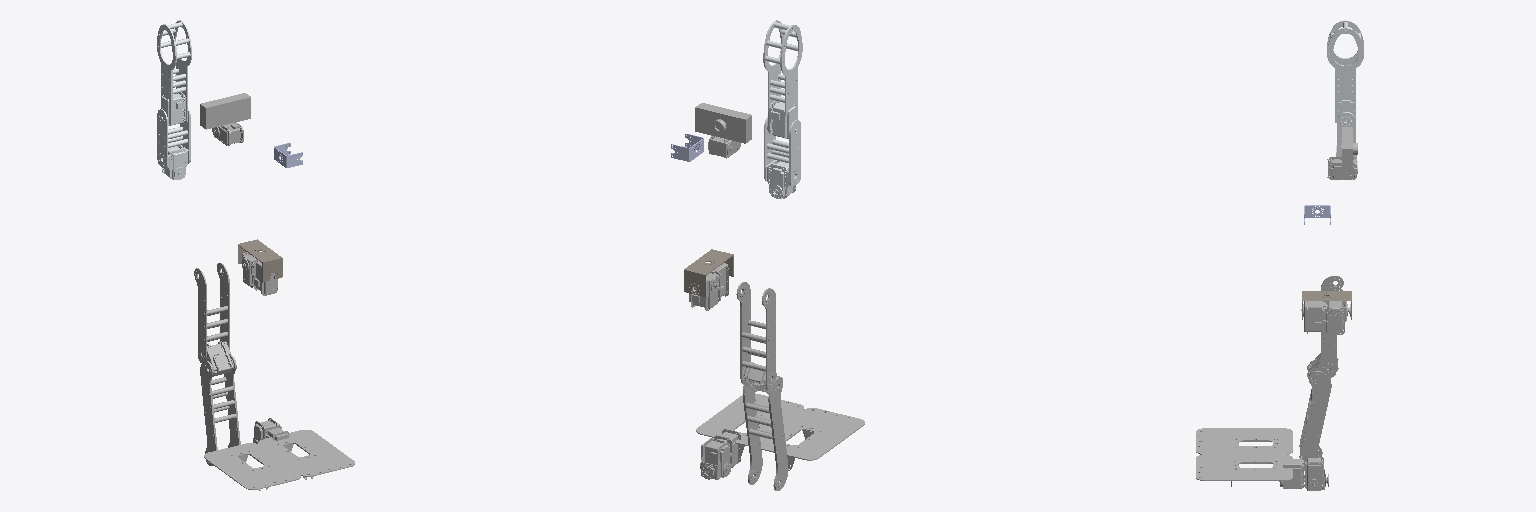
--- Facts derived from the render (not from the file) ---
Views: 3 orthographic renders of the robot side by side, from view 1: azimuth 30°, elevation 25°; view 2: azimuth 150°, elevation 25°; view 3: azimuth 270°, elevation 25°.
Robot: SAKURA — 21 links, 20 joints (19 continuous, 1 fixed); root link base_link; default pose: every joint at zero.
Visible links, largest first — view 1: LFOOT, LLEG2, RFOOT, LARM2, LLEG3, HEAD, LARM1, RLEG0, RLEG1, RLEG4; view 2: LARM2, LLEG2, LFOOT, LLEG3, LARM1, HEAD, RFOOT, RLEG4, RLEG0, RLEG1, RARM0; view 3: RFOOT, LFOOT, LARM2, LLEG3, RLEG1, RLEG4, LLEG2, HEAD, RLEG0.
Link boxes in pixels (<box>): LFOOT: <box>204,443,300,490</box>; LLEG2: <box>194,263,233,376</box>; RFOOT: <box>258,430,354,479</box>; LARM2: <box>157,20,191,125</box>; LLEG3: <box>200,355,240,465</box>; HEAD: <box>200,93,250,145</box>; LARM1: <box>157,107,190,179</box>; RLEG0: <box>238,239,282,281</box>; RLEG1: <box>241,251,277,295</box>; RLEG4: <box>253,418,288,443</box>; LARM2: <box>763,20,802,138</box>; LLEG2: <box>736,282,777,394</box>; LFOOT: <box>761,408,864,470</box>; LLEG3: <box>743,376,788,490</box>; LARM1: <box>764,116,800,198</box>; HEAD: <box>695,103,751,158</box>; RFOOT: <box>696,393,803,455</box>; RLEG4: <box>700,429,740,479</box>; RLEG0: <box>684,249,733,296</box>; RLEG1: <box>689,263,728,310</box>; RARM0: <box>671,134,703,161</box>; RFOOT: <box>1196,454,1292,486</box>; LFOOT: <box>1196,428,1292,454</box>; LARM2: <box>1327,20,1363,122</box>; LLEG3: <box>1299,360,1331,467</box>; RLEG1: <box>1301,301,1350,334</box>; RLEG4: <box>1279,456,1328,490</box>; LLEG2: <box>1307,276,1343,382</box>; HEAD: <box>1327,127,1357,179</box>; RLEG0: <box>1302,291,1351,319</box>.
Size in the robot's own frame: 0.2928 by 0.3597 by 1.01 metres.
11 mesh visuals loaded from 20 distinct referenced files (11 binary STL); not drawn: 9 (reference not matched to a file when rendering).

robot.urdf — SAKURA:
<?xml version="1.0"?>
<robot
  name="SAKURA">
    <link name="base_link">
      <origin
        xyz="0 0 0"
        rpy="0 0 0" />
  </link>
  <link
    name="TRUNK">
    <inertial>
      <origin
        xyz="-0.000142944293532541 -0.0159940135836359 0.119253638413231"
        rpy="0 0 0" />
      <mass
        value="1.4778155091901" />
      <inertia
        ixx="0.0125398154437975"
        ixy="-2.68478156217668E-06"
        ixz="-7.17353402812125E-06"
        iyy="0.016695640033345"
        iyz="0.000776177026664091"
        izz="0.00567882258573842" />
    </inertial>
    <visual>
      <origin
        xyz="0 0 0"
        rpy="0 0 0" />
      <geometry>
        <mesh
          filename="package://sakura_pkg/meshes/TRUNK.STL" />
      </geometry>
      <material
        name="">
        <color
          rgba="0.752941176470588 0.752941176470588 0.752941176470588 1" />
      </material>
    </visual>
    <collision>
      <origin
        xyz="0 0 0"
        rpy="0 0 0" />
      <geometry>
        <mesh
          filename="package://sakura_pkg/meshes/TRUNK.STL" />
      </geometry>
    </collision>
  </link>
    <joint name="GLOBAL" type="fixed">
    <parent link="base_link"/>
    <child link="TRUNK"/>
    <origin xyz="0 0 0" rpy="0 0 0"/>
  </joint>
  <link
    name="HEAD">
    <inertial>
      <origin
        xyz="-0.0038811 0.012249 0.048965"
        rpy="0 0 0" />
      <mass
        value="0.21462" />
      <inertia
        ixx="0.00010122"
        ixy="8.917E-07"
        ixz="4.6738E-06"
        iyy="9.789E-05"
        iyz="-1.8633E-05"
        izz="3.7787E-06" />
    </inertial>
    <visual>
      <origin
        xyz="0 0 0"
        rpy="0 0 0" />
      <geometry>
        <mesh
          filename="package://sakura_pkg/meshes/HEAD.STL" />
      </geometry>
      <material
        name="">
        <color
          rgba="0.75294 0.75294 0.75294 1" />
      </material>
    </visual>
    <collision>
      <origin
        xyz="0 0 0"
        rpy="0 0 0" />
      <geometry>
        <mesh
          filename="package://sakura_pkg/meshes/HEAD.STL" />
      </geometry>
    </collision>
  </link>
  <joint
    name="J_HEAD"
    type="continuous">
    <origin
      xyz="0.0016 0.01125 0.2484"
      rpy="-1.2005E-15 -9.4278E-17 -2.3904E-16" />
    <parent
      link="TRUNK" />
    <child
      link="HEAD" />
    <axis
      xyz="0 0 1" />
    <limit
      effort="0"
      velocity="0" />
  </joint>
  <link
    name="LARM0">
    <inertial>
      <origin
        xyz="4.16333634234434E-17 2.77555756156289E-17 0.0103025666414173"
        rpy="0 0 0" />
      <mass
        value="0.0066175226097181" />
      <inertia
        ixx="0"
        ixy="0"
        ixz="0"
        iyy="0"
        iyz="0"
        izz="0" />
    </inertial>
    <visual>
      <origin
        xyz="0 0 0"
        rpy="0 0 0" />
      <geometry>
        <mesh
          filename="package://sakura_pkg/meshes/LARM0.STL" />
      </geometry>
      <material
        name="">
        <color
          rgba="0.792156862745098 0.819607843137255 0.933333333333333 1" />
      </material>
    </visual>
    <collision>
      <origin
        xyz="0 0 0"
        rpy="0 0 0" />
      <geometry>
        <mesh
          filename="package://sakura_pkg/meshes/LARM0.STL" />
      </geometry>
    </collision>
  </link>
  <joint
    name="J_LARM0"
    type="continuous">
    <origin
      xyz="-0.0935 -0.038 0.209"
      rpy="1.5708 -5.6851E-16 -1.5708" />
    <parent
      link="TRUNK" />
    <child
      link="LARM0" />
    <axis
      xyz="0 0 1" />
    <limit
      effort="0"
      velocity="0" />
  </joint>
  <link
    name="LARM1">
    <inertial>
      <origin
        xyz="-0.000203905909046856 -0.0358166170046635 -0.030724518771744"
        rpy="0 0 0" />
      <mass
        value="0.386889741732442" />
      <inertia
        ixx="0.000319462933467775"
        ixy="-7.00859671208955E-06"
        ixz="-6.33921748509821E-09"
        iyy="8.0452262350149E-05"
        iyz="6.46973244600118E-07"
        izz="0.000386423060557297" />
    </inertial>
    <visual>
      <origin
        xyz="0 0 0"
        rpy="0 0 0" />
      <geometry>
        <mesh
          filename="package://sakura_pkg/meshes/LARM1.STL" />
      </geometry>
      <material
        name="">
        <color
          rgba="0.898039215686275 0.92156862745098 0.929411764705882 1" />
      </material>
    </visual>
    <collision>
      <origin
        xyz="0 0 0"
        rpy="0 0 0" />
      <geometry>
        <mesh
          filename="package://sakura_pkg/meshes/LARM1.STL" />
      </geometry>
    </collision>
  </link>
  <joint
    name="J_LARM1"
    type="continuous">
    <origin
      xyz="-0.0308 0 0.036"
      rpy="3.1416 -1.5708 0" />
    <parent
      link="LARM0" />
    <child
      link="LARM1" />
    <axis
      xyz="0 0 1" />
    <limit
      effort="0"
      velocity="0" />
  </joint>
  <link
    name="LARM2">
    <inertial>
      <origin
        xyz="-0.000946892853796732 -0.0604743903550126 -0.030549305382329"
        rpy="0 0 0" />
      <mass
        value="0.417770884687889" />
      <inertia
        ixx="0.00130365609096481"
        ixy="-2.20058971275383E-05"
        ixz="-1.13235654810576E-07"
        iyy="7.40162277479168E-05"
        iyz="-4.76741794550902E-06"
        izz="0.00130522583526536" />
    </inertial>
    <visual>
      <origin
        xyz="0 0 0"
        rpy="0 0 0" />
      <geometry>
        <mesh
          filename="package://sakura_pkg/meshes/LARM2.STL" />
      </geometry>
      <material
        name="">
        <color
          rgba="0.898039215686275 0.92156862745098 0.929411764705882 1" />
      </material>
    </visual>
    <collision>
      <origin
        xyz="0 0 0"
        rpy="0 0 0" />
      <geometry>
        <mesh
          filename="package://sakura_pkg/meshes/LARM2.STL" />
      </geometry>
    </collision>
  </link>
  <joint
    name="J_LARM2"
    type="continuous">
    <origin
      xyz="0.0307 -0.1235 -0.0308"
      rpy="0 1.5708 0" />
    <parent
      link="LARM1" />
    <child
      link="LARM2" />
    <axis
      xyz="0 0 -1" />
    <limit
      effort="0"
      velocity="0" />
  </joint>
  <link
    name="RARM0">
    <inertial>
      <origin
        xyz="-4.16333634234434E-17 0 0.0103025666414173"
        rpy="0 0 0" />
      <mass
        value="0.00661752260971814" />
      <inertia
        ixx="0"
        ixy="0"
        ixz="0"
        iyy="0"
        iyz="0"
        izz="0" />
    </inertial>
    <visual>
      <origin
        xyz="0 0 0"
        rpy="0 0 0" />
      <geometry>
        <mesh
          filename="package://sakura_pkg/meshes/RARM0.STL" />
      </geometry>
      <material
        name="">
        <color
          rgba="0.792156862745098 0.819607843137255 0.933333333333333 1" />
      </material>
    </visual>
    <collision>
      <origin
        xyz="0 0 0"
        rpy="0 0 0" />
      <geometry>
        <mesh
          filename="package://sakura_pkg/meshes/RARM0.STL" />
      </geometry>
    </collision>
  </link>
  <joint
    name="J_RARM0"
    type="continuous">
    <origin
      xyz="0.0935 -0.038 0.209"
      rpy="-1.5708 -6.1121E-16 -1.5708" />
    <parent
      link="TRUNK" />
    <child
      link="RARM0" />
    <axis
      xyz="0 0 1" />
    <limit
      effort="0"
      velocity="0" />
  </joint>
  <link
    name="RARM1">
    <inertial>
      <origin
        xyz="-0.00020391 -0.035817 -0.030725"
        rpy="0 0 0" />
      <mass
        value="0.38689" />
      <inertia
        ixx="0.00031946"
        ixy="-7.0086E-06"
        ixz="-6.3392E-09"
        iyy="8.0452E-05"
        iyz="6.4697E-07"
        izz="0.00038642" />
    </inertial>
    <visual>
      <origin
        xyz="0 0 0"
        rpy="0 0 0" />
      <geometry>
        <mesh
          filename="package://sakura_pkg/meshes/RARM1.STL" />
      </geometry>
      <material
        name="">
        <color
          rgba="0.89804 0.92157 0.92941 1" />
      </material>
    </visual>
    <collision>
      <origin
        xyz="0 0 0"
        rpy="0 0 0" />
      <geometry>
        <mesh
          filename="package://sakura_pkg/meshes/RARM1.STL" />
      </geometry>
    </collision>
  </link>
  <joint
    name="J_RARM1"
    type="continuous">
    <origin
      xyz="-0.0308 0 0.036"
      rpy="3.1416 1.5708 0" />
    <parent
      link="RARM0" />
    <child
      link="RARM1" />
    <axis
      xyz="0 0 1" />
    <limit
      effort="0"
      velocity="0" />
  </joint>
  <link
    name="RARM2">
    <inertial>
      <origin
        xyz="-0.000946892853796774 -0.0604743903550127 -0.0305493053823289"
        rpy="0 0 0" />
      <mass
        value="0.417770884687889" />
      <inertia
        ixx="0.00130365609096481"
        ixy="-2.20058971275389E-05"
        ixz="-1.13235654810633E-07"
        iyy="7.40162277479169E-05"
        iyz="-4.76741794550966E-06"
        izz="0.00130522583526536" />
    </inertial>
    <visual>
      <origin
        xyz="0 0 0"
        rpy="0 0 0" />
      <geometry>
        <mesh
          filename="package://sakura_pkg/meshes/RARM2.STL" />
      </geometry>
      <material
        name="">
        <color
          rgba="0.898039215686275 0.92156862745098 0.929411764705882 1" />
      </material>
    </visual>
    <collision>
      <origin
        xyz="0 0 0"
        rpy="0 0 0" />
      <geometry>
        <mesh
          filename="package://sakura_pkg/meshes/RARM2.STL" />
      </geometry>
    </collision>
  </link>
  <joint
    name="J_RARM2"
    type="continuous">
    <origin
      xyz="0.0307 -0.1235 -0.0308"
      rpy="0 1.5708 0" />
    <parent
      link="RARM1" />
    <child
      link="RARM2" />
    <axis
      xyz="0 0 -1" />
    <limit
      effort="0"
      velocity="0" />
  </joint>
  <link
    name="LLEG0">
    <inertial>
      <origin
        xyz="1.38777878078145E-17 1.38777878078145E-17 0.012339611662812"
        rpy="0 0 0" />
      <mass
        value="0.137487098095279" />
      <inertia
        ixx="0"
        ixy="0"
        ixz="0"
        iyy="0"
        iyz="0"
        izz="0" />
    </inertial>
    <visual>
      <origin
        xyz="0 0 0"
        rpy="0 0 0" />
      <geometry>
        <mesh
          filename="package://sakura_pkg/meshes/LLEG0.STL" />
      </geometry>
      <material
        name="">
        <color
          rgba="0.650980392156863 0.619607843137255 0.588235294117647 1" />
      </material>
    </visual>
    <collision>
      <origin
        xyz="0 0 0"
        rpy="0 0 0" />
      <geometry>
        <mesh
          filename="package://sakura_pkg/meshes/LLEG0.STL" />
      </geometry>
    </collision>
  </link>
  <joint
    name="J_LLEG0"
    type="continuous">
    <origin
      xyz="-0.055 -0.018 -0.005"
      rpy="-3.14159265358979 1.21430643318376E-16 -1.5707963267949" />
    <parent
      link="TRUNK" />
    <child
      link="LLEG0" />
    <axis
      xyz="0 0 1" />
  </joint>
  <link
    name="LLEG1">
    <inertial>
      <origin
        xyz="-4.90216563097182E-05 -0.014933566350856 -0.0542307430726147"
        rpy="0 0 0" />
      <mass
        value="0.484317524341268" />
      <inertia
        ixx="0.000258532465487086"
        ixy="-1.08430216395215E-08"
        ixz="-4.93107012410751E-07"
        iyy="0.000256538006237082"
        iyz="8.86337248194806E-06"
        izz="4.00980160512074E-06" />
    </inertial>
    <visual>
      <origin
        xyz="0 0 0"
        rpy="0 0 0" />
      <geometry>
        <mesh
          filename="package://sakura_pkg/meshes/LLEG1.STL" />
      </geometry>
      <material
        name="">
        <color
          rgba="0.752941176470588 0.752941176470588 0.752941176470588 1" />
      </material>
    </visual>
    <collision>
      <origin
        xyz="0 0 0"
        rpy="0 0 0" />
      <geometry>
        <mesh
          filename="package://sakura_pkg/meshes/LLEG1.STL" />
      </geometry>
    </collision>
  </link>
  <joint
    name="J_LLEG1"
    type="continuous">
    <origin
      xyz="0.056 0 0.036"
      rpy="-1.5707963267949 -1.22338662637834E-16 -1.5707963267949" />
    <parent
      link="LLEG0" />
    <child
      link="LLEG1" />
    <axis
      xyz="0 0 1" />
  </joint>
  <link
    name="LLEG2">
    <inertial>
      <origin
        xyz="0.0896135033902749 -0.121669815792639 -0.0285739776731877"
        rpy="0 0 0" />
      <mass
        value="0.429581814867276" />
      <inertia
        ixx="0.000739443276879588"
        ixy="0.000469298592224479"
        ixz="-4.17657698668898E-06"
        iyy="0.00045781924000273"
        iyz="4.49877955818474E-06"
        izz="0.00100793675092908" />
    </inertial>
    <visual>
      <origin
        xyz="0 0 0"
        rpy="0 0 0" />
      <geometry>
        <mesh
          filename="package://sakura_pkg/meshes/LLEG2.STL" />
      </geometry>
      <material
        name="">
        <color
          rgba="0.752941176470588 0.752941176470588 0.752941176470588 1" />
      </material>
    </visual>
    <collision>
      <origin
        xyz="0 0 0"
        rpy="0 0 0" />
      <geometry>
        <mesh
          filename="package://sakura_pkg/meshes/LLEG2.STL" />
      </geometry>
    </collision>
  </link>
  <joint
    name="J_LLEG2"
    type="continuous">
    <origin
      xyz="0.0289999999999999 0 -0.0750000000000234"
      rpy="-1.5707963267949 0.78539816339745 -1.5707963267949" />
    <parent
      link="LLEG1" />
    <child
      link="LLEG2" />
    <axis
      xyz="0 0 -1" />
  </joint>
  <link
    name="LLEG3">
    <inertial>
      <origin
        xyz="0.0938607247050214 0.021121469241447 -0.0266864244548486"
        rpy="0 0 0" />
      <mass
        value="0.253457988874213" />
      <inertia
        ixx="0.000157893827081503"
        ixy="4.33507693026071E-06"
        ixz="2.38137513758817E-06"
        iyy="0.000215254509125973"
        iyz="4.49605098935315E-06"
        izz="7.90936329999813E-05" />
    </inertial>
    <visual>
      <origin
        xyz="0 0 0"
        rpy="0 0 0" />
      <geometry>
        <mesh
          filename="package://sakura_pkg/meshes/LLEG3.STL" />
      </geometry>
      <material
        name="">
        <color
          rgba="0.752941176470588 0.752941176470588 0.752941176470588 1" />
      </material>
    </visual>
    <collision>
      <origin
        xyz="0 0 0"
        rpy="0 0 0" />
      <geometry>
        <mesh
          filename="package://sakura_pkg/meshes/LLEG3.STL" />
      </geometry>
    </collision>
  </link>
  <joint
    name="J_LLEG3"
    type="continuous">
    <origin
      xyz="0.112429978208667 -0.169643181644254 0.00160000000000024"
      rpy="-0.0320557226319531 0.0283578707512148 -1.01721646459287" />
    <parent
      link="LLEG2" />
    <child
      link="LLEG3" />
    <axis
      xyz="0.0283540701513945 0.0320373469653184 -0.999084408398647" />
  </joint>
  <link
    name="LLEG4">
    <inertial>
      <origin
        xyz="0.0207692569273853 -0.0149335663508559 -0.0309509783436903"
        rpy="0 0 0" />
      <mass
        value="0.484317524341267" />
      <inertia
        ixx="4.00980160512071E-06"
        ixy="8.86337248194725E-06"
        ixz="4.93107012410836E-07"
        iyy="0.000256538006237082"
        iyz="1.08430216395228E-08"
        izz="0.000258532465487085" />
    </inertial>
    <visual>
      <origin
        xyz="0 0 0"
        rpy="0 0 0" />
      <geometry>
        <mesh
          filename="package://sakura_pkg/meshes/LLEG4.STL" />
      </geometry>
      <material
        name="">
        <color
          rgba="0.752941176470588 0.752941176470588 0.752941176470588 1" />
      </material>
    </visual>
    <collision>
      <origin
        xyz="0 0 0"
        rpy="0 0 0" />
      <geometry>
        <mesh
          filename="package://sakura_pkg/meshes/LLEG4.STL" />
      </geometry>
    </collision>
  </link>
  <joint
    name="J_LLEG4"
    type="continuous">
    <origin
      xyz="0.19759 0.040682 0.007913"
      rpy="0.034963 0.024684 -1.339" />
    <parent
      link="LLEG3" />
    <child
      link="LLEG4" />
    <axis
      xyz="0 0 1" />
    <limit
      effort="0"
      velocity="0" />
  </joint>
  <link
    name="LFOOT">
    <inertial>
      <origin
        xyz="-0.00984398078216434 0.033081446163245 0.0742424926896279"
        rpy="0 0 0" />
      <mass
        value="0.474832547151362" />
      <inertia
        ixx="5.51319710395952E-05"
        ixy="8.95545085142721E-06"
        ixz="2.1883900378474E-05"
        iyy="5.73648543375659E-05"
        iyz="-1.93251189181957E-05"
        izz="1.80495475741546E-05" />
    </inertial>
    <visual>
      <origin
        xyz="0 0 0"
        rpy="0 0 0" />
      <geometry>
        <mesh
          filename="package://sakura_pkg/meshes/LFOOT.STL" />
      </geometry>
      <material
        name="">
        <color
          rgba="0.752941176470588 0.752941176470588 0.752941176470588 1" />
      </material>
    </visual>
    <collision>
      <origin
        xyz="0 0 0"
        rpy="0 0 0" />
      <geometry>
        <mesh
          filename="package://sakura_pkg/meshes/LFOOT.STL" />
      </geometry>
    </collision>
  </link>
  <joint
    name="J_LFOOT"
    type="continuous">
    <origin
      xyz="0.072 0 -0.031"
      rpy="3.1416 -1.5708 0" />
    <parent
      link="LLEG4" />
    <child
      link="LFOOT" />
    <axis
      xyz="0 0 1" />
    <limit
      effort="0"
      velocity="0" />
  </joint>
  <link
    name="RLEG0">
    <inertial>
      <origin
        xyz="0 1.38777878078145E-17 0.012339611662812"
        rpy="0 0 0" />
      <mass
        value="0.137487098095279" />
      <inertia
        ixx="0"
        ixy="0"
        ixz="0"
        iyy="0"
        iyz="0"
        izz="0" />
    </inertial>
    <visual>
      <origin
        xyz="0 0 0"
        rpy="0 0 0" />
      <geometry>
        <mesh
          filename="package://sakura_pkg/meshes/RLEG0.STL" />
      </geometry>
      <material
        name="">
        <color
          rgba="0.650980392156863 0.619607843137255 0.588235294117647 1" />
      </material>
    </visual>
    <collision>
      <origin
        xyz="0 0 0"
        rpy="0 0 0" />
      <geometry>
        <mesh
          filename="package://sakura_pkg/meshes/RLEG0.STL" />
      </geometry>
    </collision>
  </link>
  <joint
    name="J_RLEG0"
    type="continuous">
    <origin
      xyz="0.055 -0.018 -0.005"
      rpy="-3.14159265358979 1.21430643318376E-16 -1.5707963267949" />
    <parent
      link="TRUNK" />
    <child
      link="RLEG0" />
    <axis
      xyz="0 0 1" />
  </joint>
  <link
    name="RLEG1">
    <inertial>
      <origin
        xyz="-4.9022E-05 -0.014934 -0.054231"
        rpy="0 0 0" />
      <mass
        value="0.48432" />
      <inertia
        ixx="0.00025853"
        ixy="-1.0843E-08"
        ixz="-4.9311E-07"
        iyy="0.00025654"
        iyz="8.8634E-06"
        izz="4.0098E-06" />
    </inertial>
    <visual>
      <origin
        xyz="0 0 0"
        rpy="0 0 0" />
      <geometry>
        <mesh
          filename="package://sakura_pkg/meshes/RLEG1.STL" />
      </geometry>
      <material
        name="">
        <color
          rgba="0.75294 0.75294 0.75294 1" />
      </material>
    </visual>
    <collision>
      <origin
        xyz="0 0 0"
        rpy="0 0 0" />
      <geometry>
        <mesh
          filename="package://sakura_pkg/meshes/RLEG1.STL" />
      </geometry>
    </collision>
  </link>
  <joint
    name="J_RLEG1"
    type="continuous">
    <origin
      xyz="0.056 0 0.036"
      rpy="-1.5707963267949 2.66239395980971E-16 -1.5707963267949" />
    <parent
      link="RLEG0" />
    <child
      link="RLEG1" />
    <axis
      xyz="0 0 1" />
  </joint>
  <link
    name="RLEG2">
    <inertial>
      <origin
        xyz="0.089613503390275 -0.121669815792639 -0.0285739776731877"
        rpy="0 0 0" />
      <mass
        value="0.429581814867276" />
      <inertia
        ixx="0.000739443276879589"
        ixy="0.00046929859222448"
        ixz="-4.17657698668821E-06"
        iyy="0.000457819240002731"
        iyz="4.49877955818371E-06"
        izz="0.00100793675092908" />
    </inertial>
    <visual>
      <origin
        xyz="0 0 0"
        rpy="0 0 0" />
      <geometry>
        <mesh
          filename="package://sakura_pkg/meshes/RLEG2.STL" />
      </geometry>
      <material
        name="">
        <color
          rgba="0.752941176470588 0.752941176470588 0.752941176470588 1" />
      </material>
    </visual>
    <collision>
      <origin
        xyz="0 0 0"
        rpy="0 0 0" />
      <geometry>
        <mesh
          filename="package://sakura_pkg/meshes/RLEG2.STL" />
      </geometry>
    </collision>
  </link>
  <joint
    name="J_RLEG2"
    type="continuous">
    <origin
      xyz="0.0290000000000001 0 -0.075"
      rpy="-1.5707963267949 0.78539816339745 -1.5707963267949" />
    <parent
      link="RLEG1" />
    <child
      link="RLEG2" />
    <axis
      xyz="0 0 -1" />
  </joint>
  <link
    name="RLEG3">
    <inertial>
      <origin
        xyz="0.093861 0.021121 -0.026686"
        rpy="0 0 0" />
      <mass
        value="0.25346" />
      <inertia
        ixx="0.00015789"
        ixy="4.3351E-06"
        ixz="2.3814E-06"
        iyy="0.00021525"
        iyz="4.4961E-06"
        izz="7.9094E-05" />
    </inertial>
    <visual>
      <origin
        xyz="0 0 0"
        rpy="0 0 0" />
      <geometry>
        <mesh
          filename="package://sakura_pkg/meshes/RLEG3.STL" />
      </geometry>
      <material
        name="">
        <color
          rgba="0.75294 0.75294 0.75294 1" />
      </material>
    </visual>
    <collision>
      <origin
        xyz="0 0 0"
        rpy="0 0 0" />
      <geometry>
        <mesh
          filename="package://sakura_pkg/meshes/RLEG3.STL" />
      </geometry>
    </collision>
  </link>
  <joint
    name="J_RLEG3"
    type="continuous">
    <origin
      xyz="0.112429978208668 -0.169643181644253 0.00160000000000014"
      rpy="-0.0320557226319534 0.0283578707512146 -1.01721646459286" />
    <parent
      link="RLEG2" />
    <child
      link="RLEG3" />
    <axis
      xyz="0.0283540701513948 0.0320373469653193 -0.999084408398647" />
  </joint>
  <link
    name="RLEG4">
    <inertial>
      <origin
        xyz="0.0207692569273853 -0.014933566350856 -0.0309509783436903"
        rpy="0 0 0" />
      <mass
        value="0.484317524341268" />
      <inertia
        ixx="4.00980160512071E-06"
        ixy="8.86337248194835E-06"
        ixz="4.93107012410999E-07"
        iyy="0.000256538006237082"
        iyz="1.08430216395282E-08"
        izz="0.000258532465487085" />
    </inertial>
    <visual>
      <origin
        xyz="0 0 0"
        rpy="0 0 0" />
      <geometry>
        <mesh
          filename="package://sakura_pkg/meshes/RLEG4.STL" />
      </geometry>
      <material
        name="">
        <color
          rgba="0.752941176470588 0.752941176470588 0.752941176470588 1" />
      </material>
    </visual>
    <collision>
      <origin
        xyz="0 0 0"
        rpy="0 0 0" />
      <geometry>
        <mesh
          filename="package://sakura_pkg/meshes/RLEG4.STL" />
      </geometry>
    </collision>
  </link>
  <joint
    name="J_RLEG4"
    type="continuous">
    <origin
      xyz="0.19759 0.040682 0.007913"
      rpy="0.034963 0.024684 -1.339" />
    <parent
      link="RLEG3" />
    <child
      link="RLEG4" />
    <axis
      xyz="0 0 1" />
    <limit
      effort="0"
      velocity="0" />
  </joint>
  <link
    name="RFOOT">
    <inertial>
      <origin
        xyz="0.009844 0.033081 0.074242"
        rpy="0 0 0" />
      <mass
        value="0.47483" />
      <inertia
        ixx="5.5132E-05"
        ixy="-8.9555E-06"
        ixz="-2.1884E-05"
        iyy="5.7365E-05"
        iyz="-1.9325E-05"
        izz="1.805E-05" />
    </inertial>
    <visual>
      <origin
        xyz="0 0 0"
        rpy="0 0 0" />
      <geometry>
        <mesh
          filename="package://sakura_pkg/meshes/RFOOT.STL" />
      </geometry>
      <material
        name="">
        <color
          rgba="0.75294 0.75294 0.75294 1" />
      </material>
    </visual>
    <collision>
      <origin
        xyz="0 0 0"
        rpy="0 0 0" />
      <geometry>
        <mesh
          filename="package://sakura_pkg/meshes/RFOOT.STL" />
      </geometry>
    </collision>
  </link>
  <joint
    name="J_RFOOT"
    type="continuous">
    <origin
      xyz="0.072 0 -0.031"
      rpy="3.1416 -1.5708 0" />
    <parent
      link="RLEG4" />
    <child
      link="RFOOT" />
    <axis
      xyz="0 0 1" />
    <limit
      effort="0"
      velocity="0" />
  </joint>
</robot>
